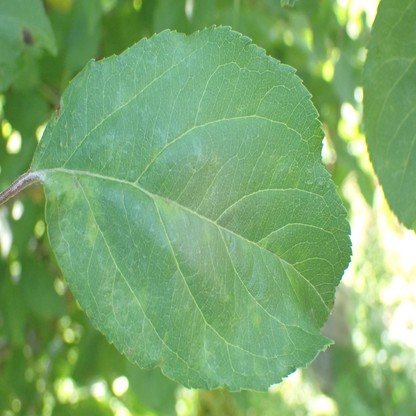scab: (45, 171, 94, 209), (87, 209, 98, 248), (130, 290, 148, 312), (156, 195, 176, 211), (202, 225, 211, 242), (252, 312, 262, 324), (153, 147, 160, 163), (222, 295, 230, 303), (263, 238, 269, 247)
